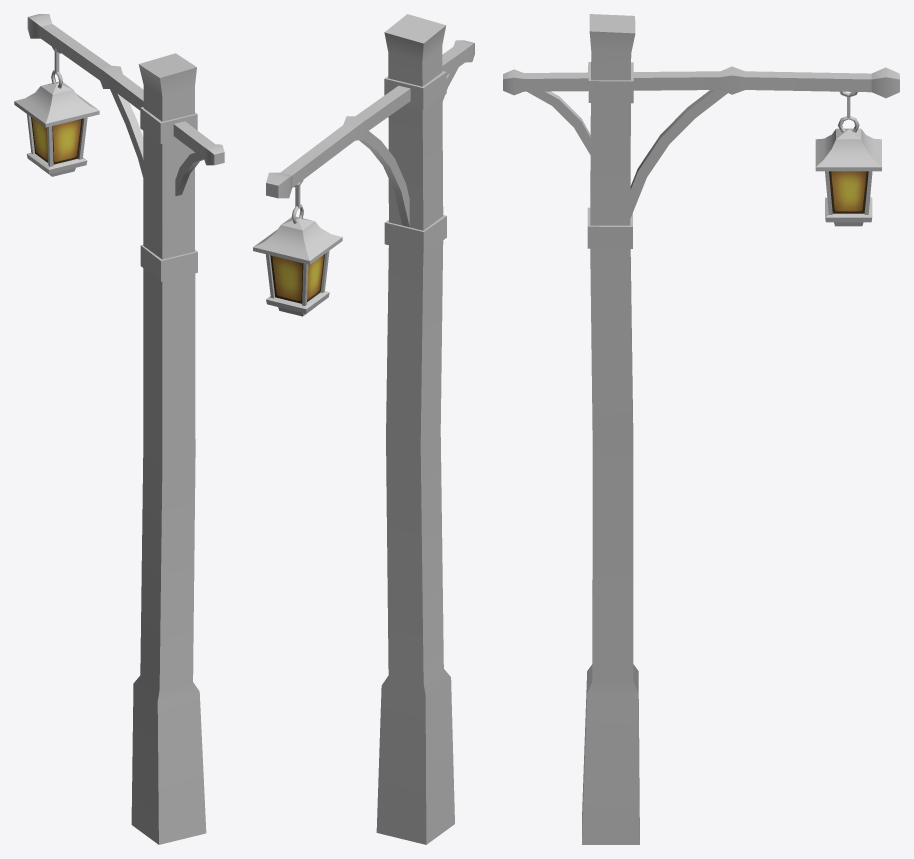
The model's file is SM_Lantern_01.fbx.
3 views of the same model, side by side, from view 1: azimuth 30°, elevation 25°; view 2: azimuth 150°, elevation 25°; view 3: azimuth 270°, elevation 25° (orthographic). The views are drawn at different scales.
Visible parts, largest first — view 1: SM_Lantern_01_SM_Lantern_01_Mesh; view 2: SM_Lantern_01_SM_Lantern_01_Mesh; view 3: SM_Lantern_01_SM_Lantern_01_Mesh.
Boxes of the visible parts, x1=… form: SM_Lantern_01_SM_Lantern_01_Mesh: x1=14, y1=14, x2=224, y2=844; SM_Lantern_01_SM_Lantern_01_Mesh: x1=253, y1=14, x2=474, y2=844; SM_Lantern_01_SM_Lantern_01_Mesh: x1=503, y1=14, x2=899, y2=844.
Size of what is drawn, in the model's own units: 32.34 by 436 by 194.
